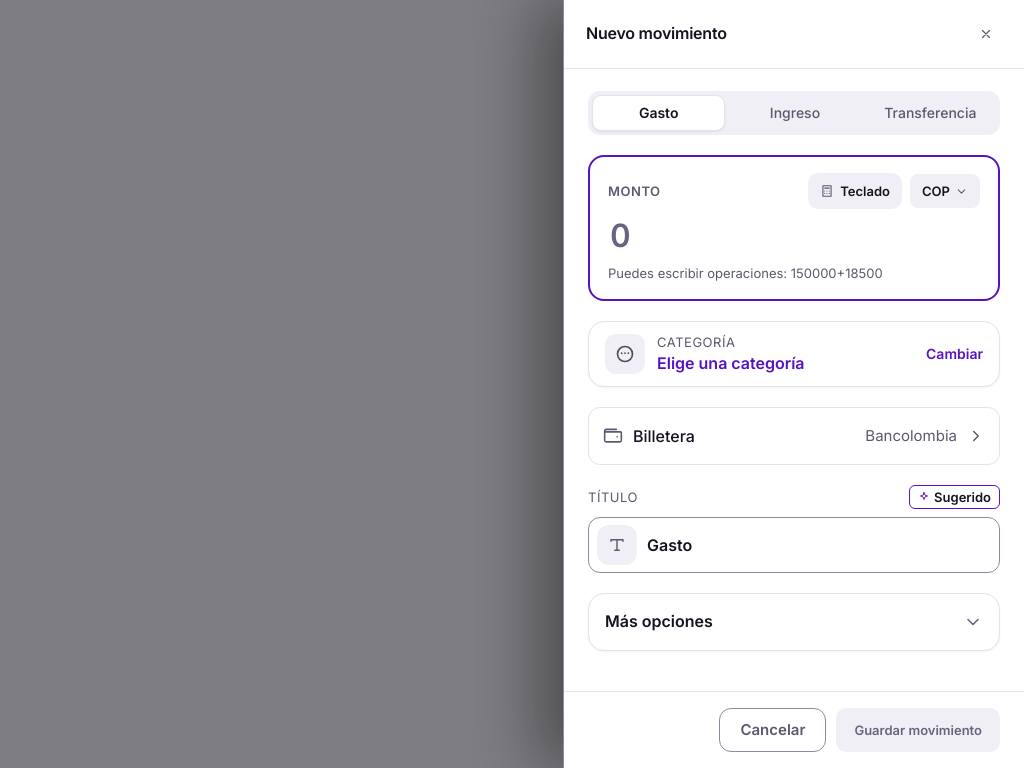
it: NewTransactionPanel › picks the wallet from a list that opens from its row
This screenshot has width=1024, height=768.
Click the button "Billetera Bancolombia".
click(664, 436)  # box top-left (589, 408), bottom-right (999, 464)
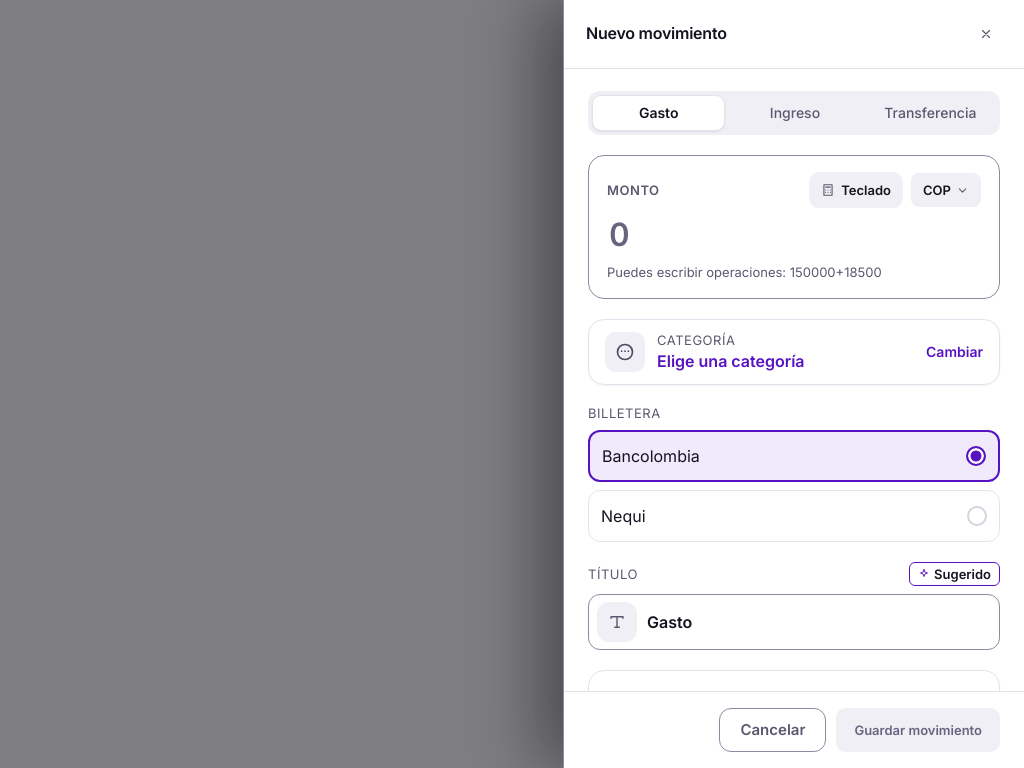
Expected: the radio button labelled "Bancolombia" is checked, top-left (588, 430), bottom-right (1000, 482)
Click the radio button labelled "Nequi".
click(623, 516)  # box top-left (588, 490), bottom-right (1000, 542)
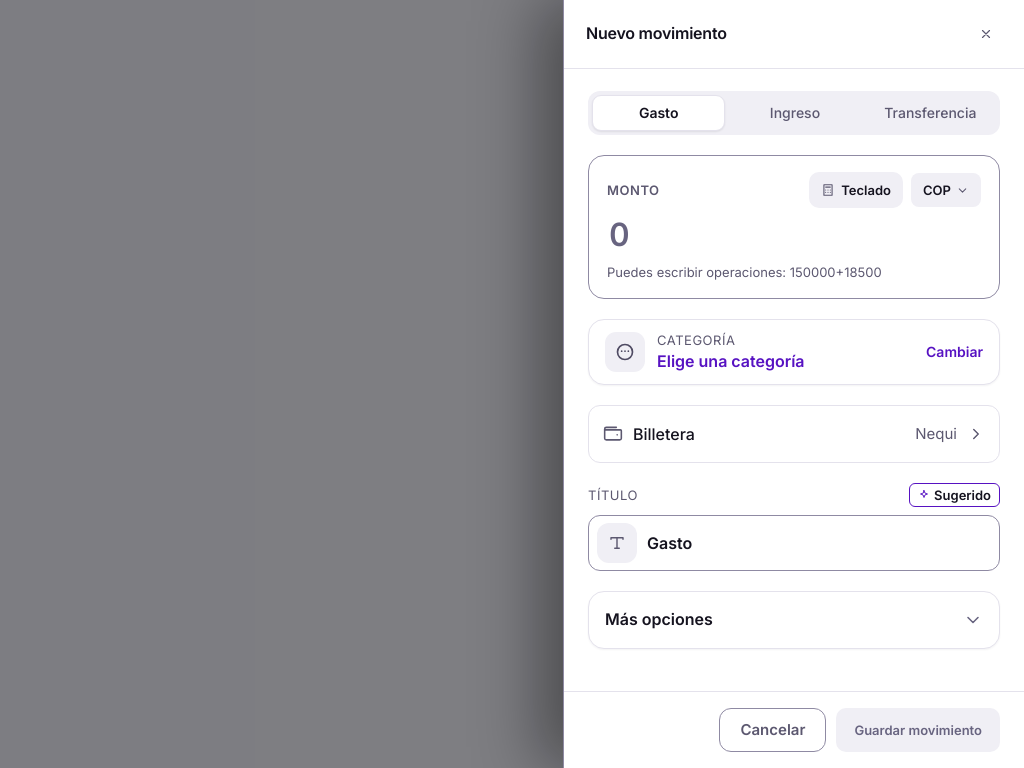
Now the button "Billetera Nequi" is shown, box top-left (589, 406), bottom-right (999, 462)
